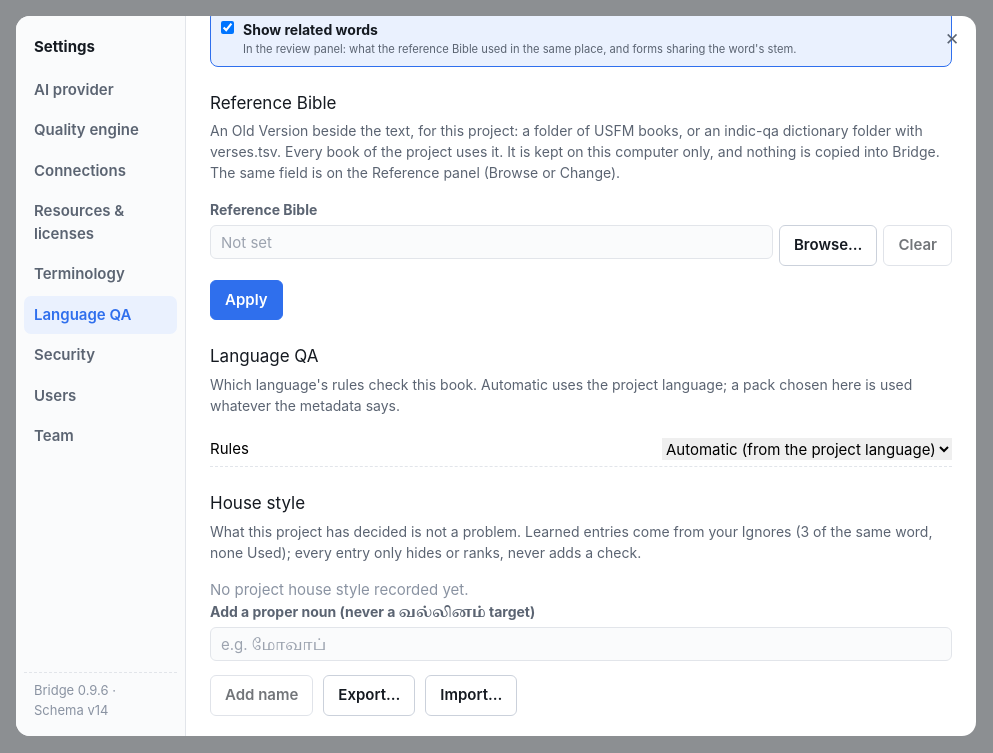
Test case: SettingsModal terminology (#171) › chooses this project's Language QA pack and says what changed
(page scrolled)
Select "Common checks only" in the dropdown labelled "Rules" at [807, 449], box [662, 438, 952, 460]
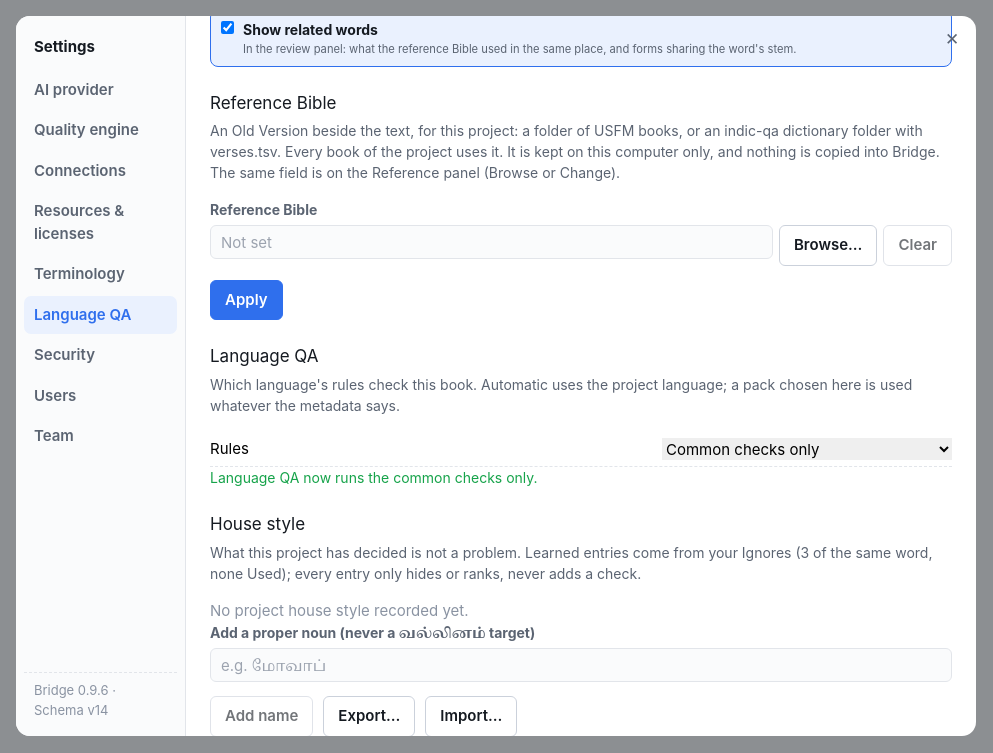
Expected: the text "Language QA now runs the common checks only." is shown, [210, 469, 538, 486]
